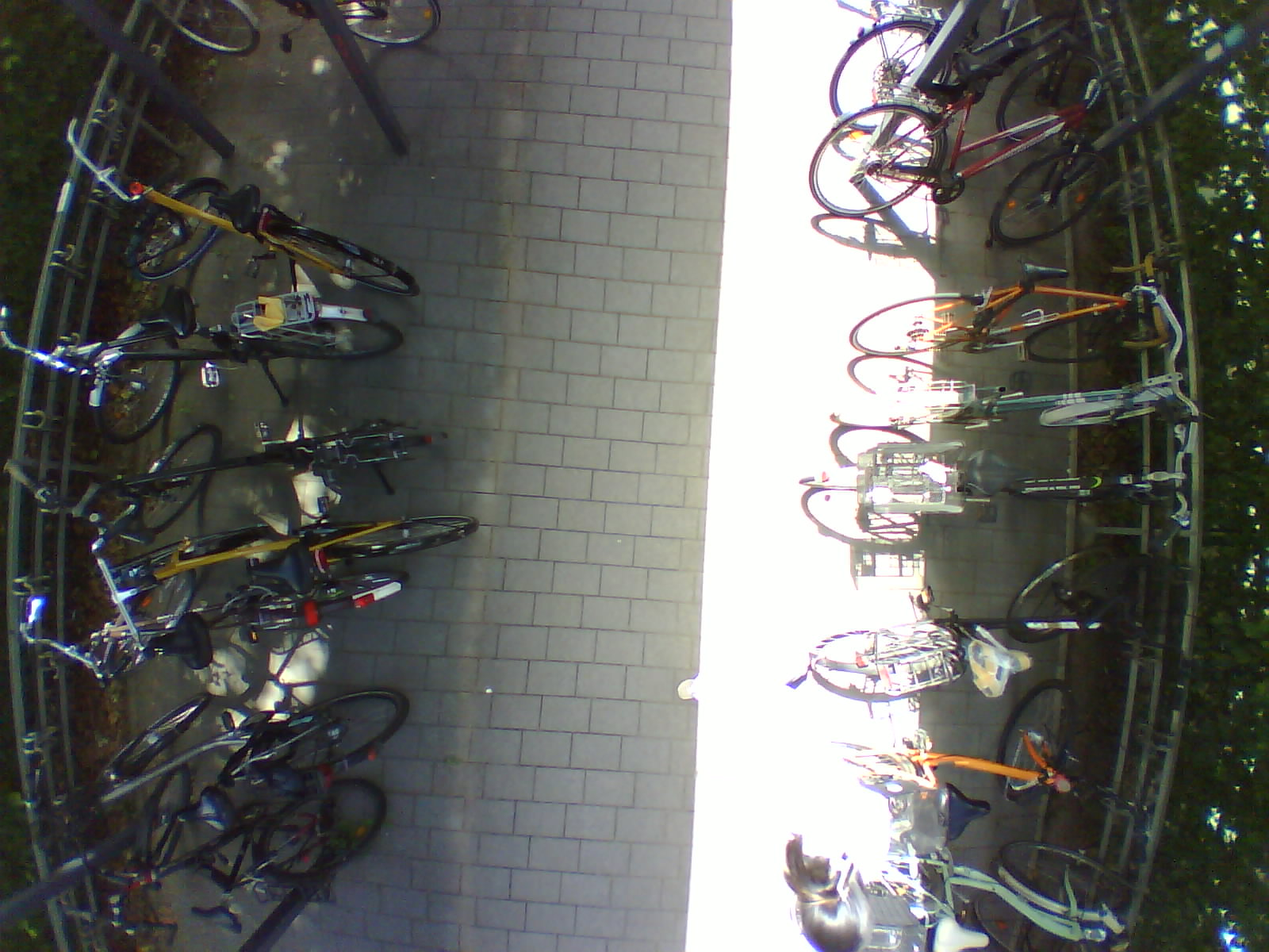bicylce: (803, 556, 1167, 703), (69, 292, 402, 440), (807, 96, 1115, 255), (78, 414, 446, 544), (59, 697, 408, 830), (89, 777, 388, 932), (101, 155, 416, 292), (78, 567, 412, 692), (797, 708, 1125, 835), (797, 444, 1196, 544), (828, 0, 1103, 140), (841, 263, 1173, 364), (110, 512, 478, 603), (854, 833, 1131, 952), (823, 366, 1204, 445)
saddle: (962, 439, 1035, 508), (247, 533, 321, 601), (964, 638, 1037, 703), (133, 609, 211, 669), (162, 786, 235, 846), (200, 177, 269, 239), (933, 780, 998, 844), (133, 288, 201, 345), (180, 892, 248, 948), (1011, 247, 1078, 301), (923, 906, 998, 952), (953, 47, 1019, 96)
